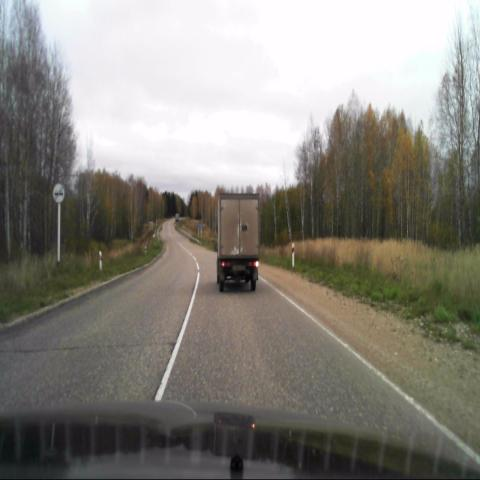3_21: (53, 183, 64, 201)
